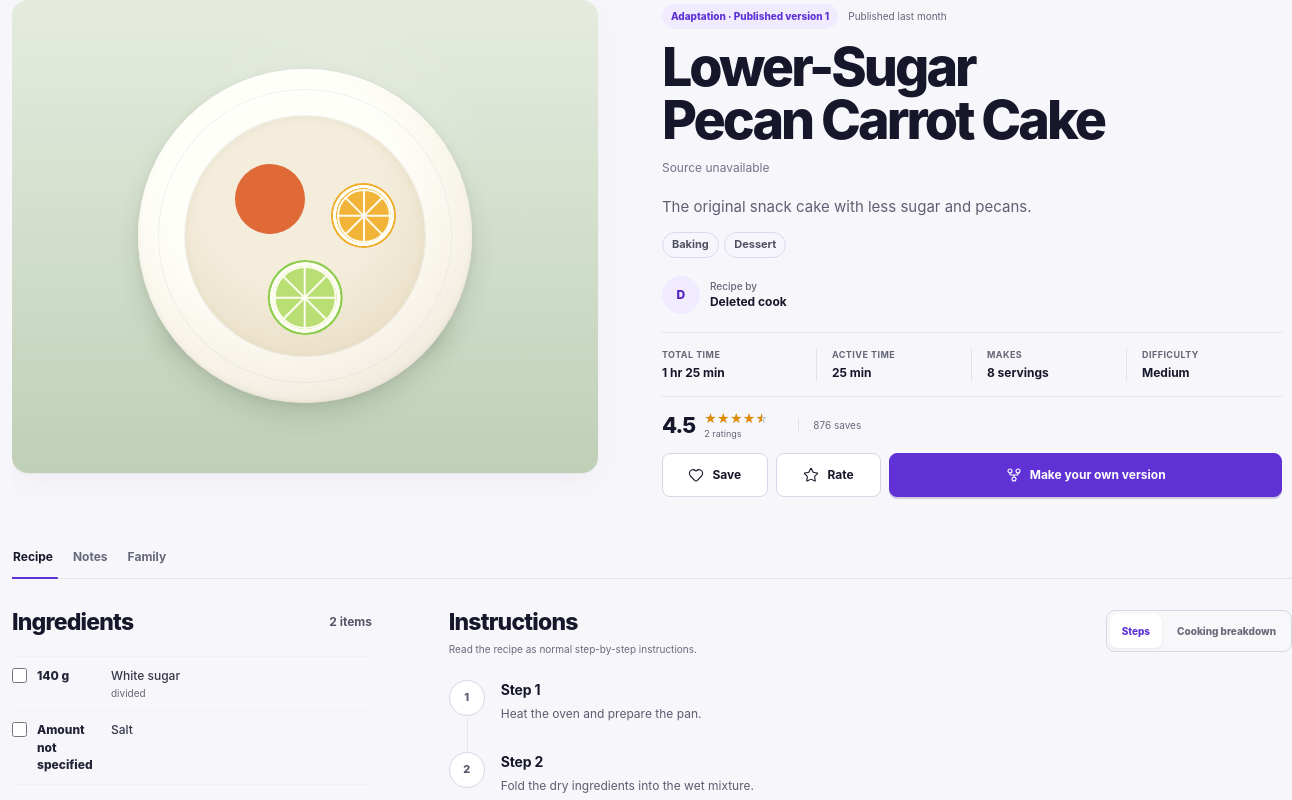
Test: RecipeDetailView › renders deleted attribution and an unavailable parent without leaking links or comparison
The image size is (1292, 800).
Click the tab "Family" at {"x": 147, "y": 563}, box [127,548,167,578]
(page scrolled)
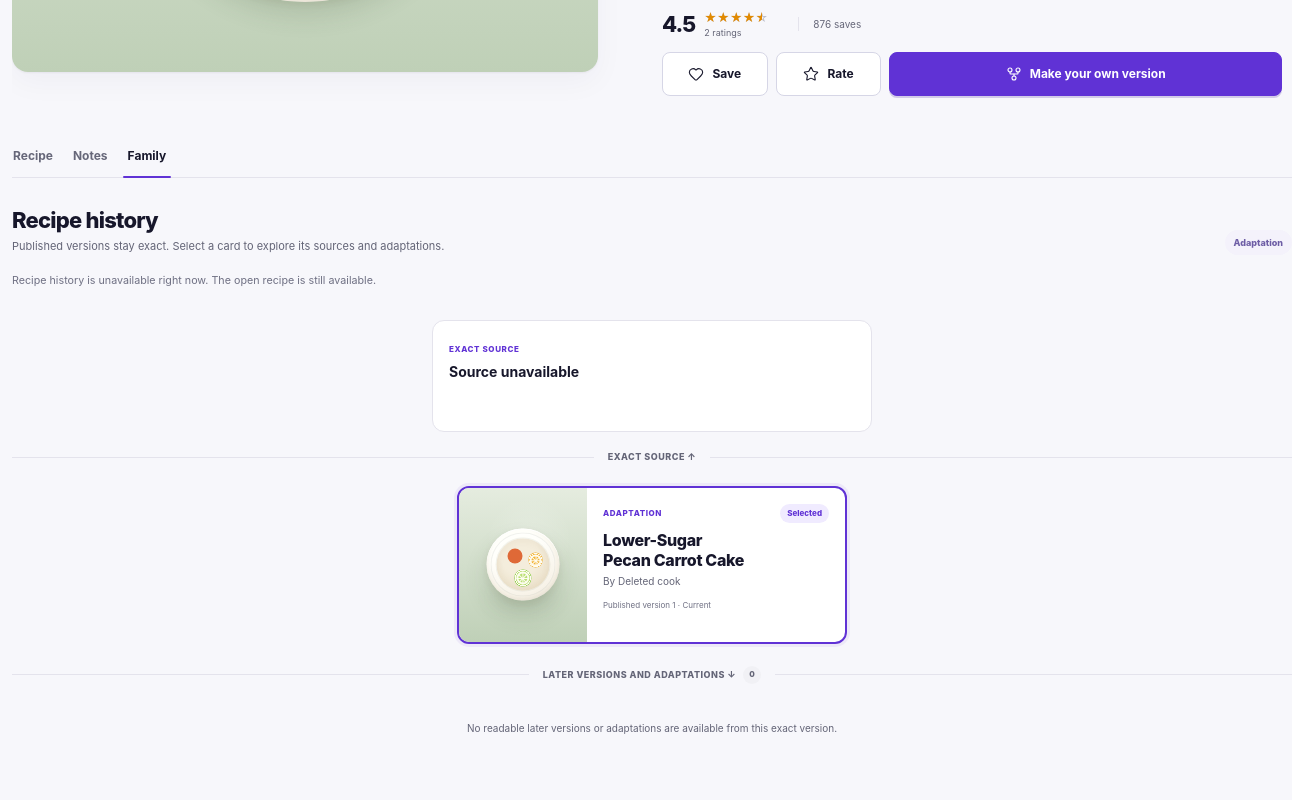
Expected: the heading "Source unavailable" is shown, [449,363,579,380]
Expected: the element named "Selected published recipe: Lower-Sugar Pecan Carrot Cake" is shown, [457,486,847,644]
